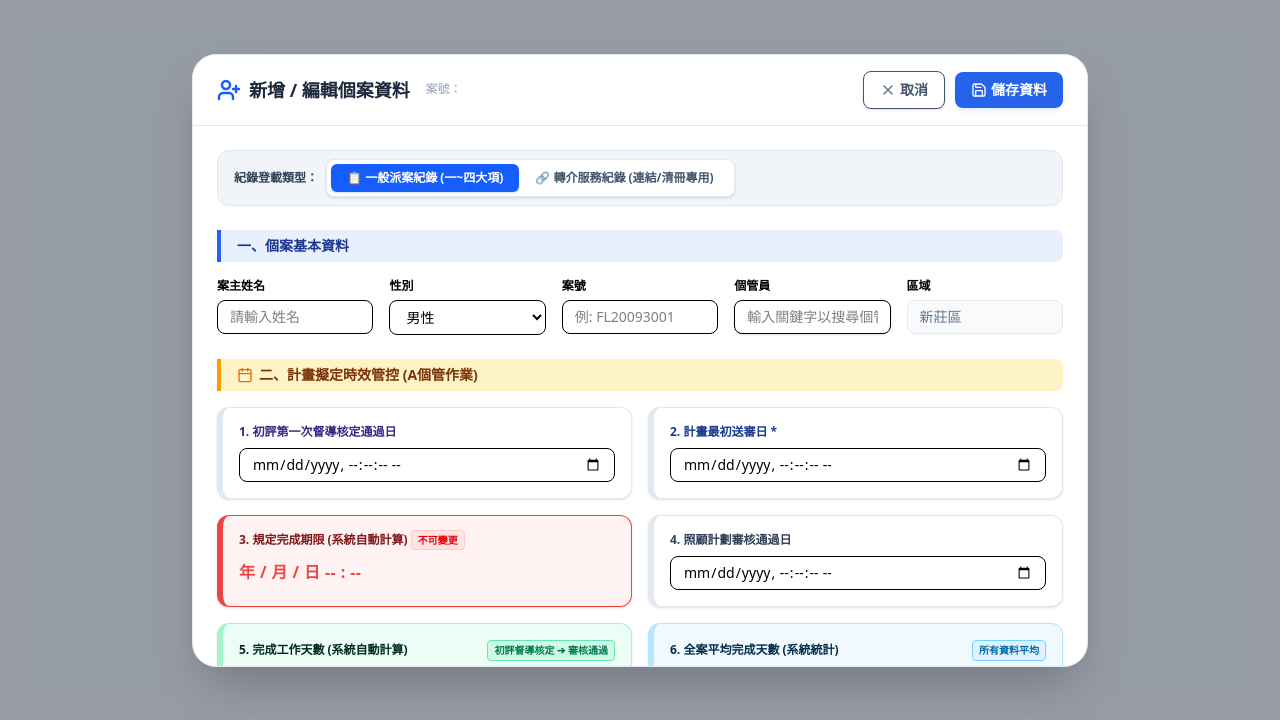
Scenario: CaseForm Integration Test › should render form fields correctly and auto-calculate deadline when approvalDate changes
Expected: the text "案主姓名" is shown, [217,276,265,294]
Type "2026-06-01T10:00" into the field labelled "2. 計畫最初送審日 *". click: (858, 464)
box: [670,448,1046,482]
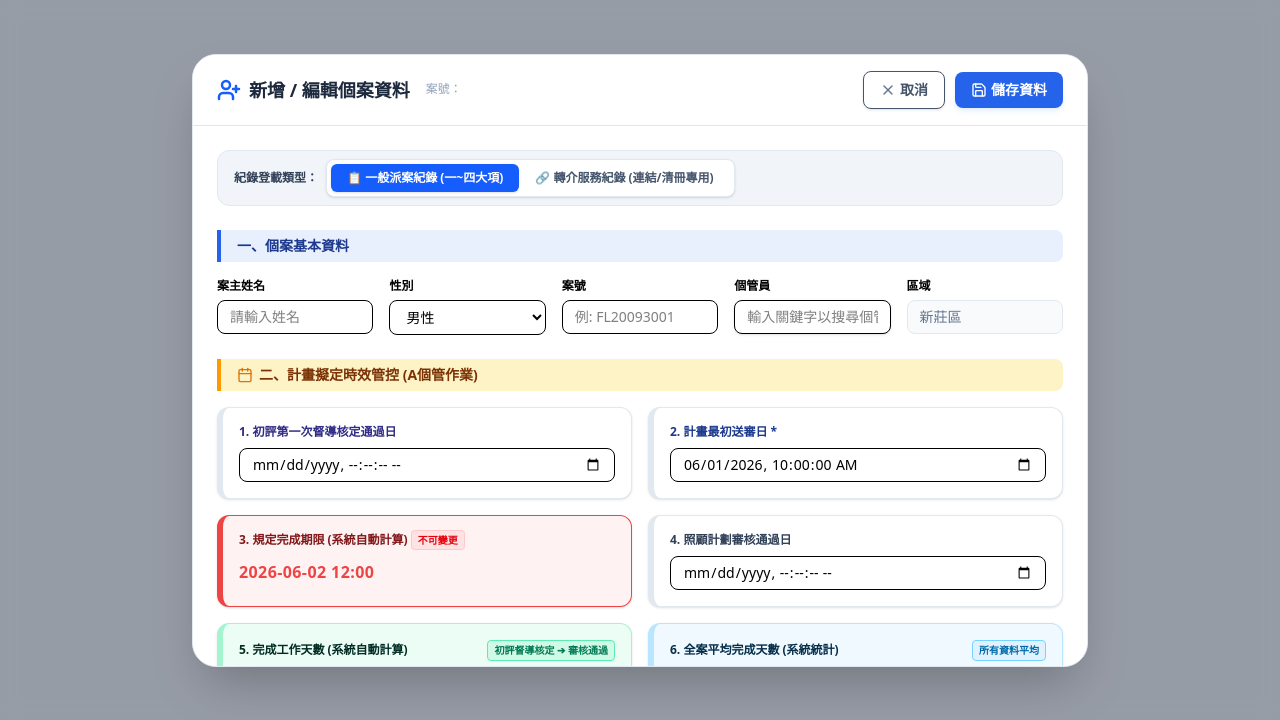
Expected: the text "2026-06-02 12:00" is shown, [239,560,374,582]
